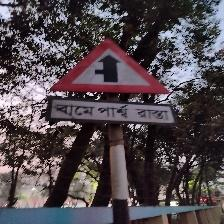Side-road-left: (46, 37, 177, 127)
